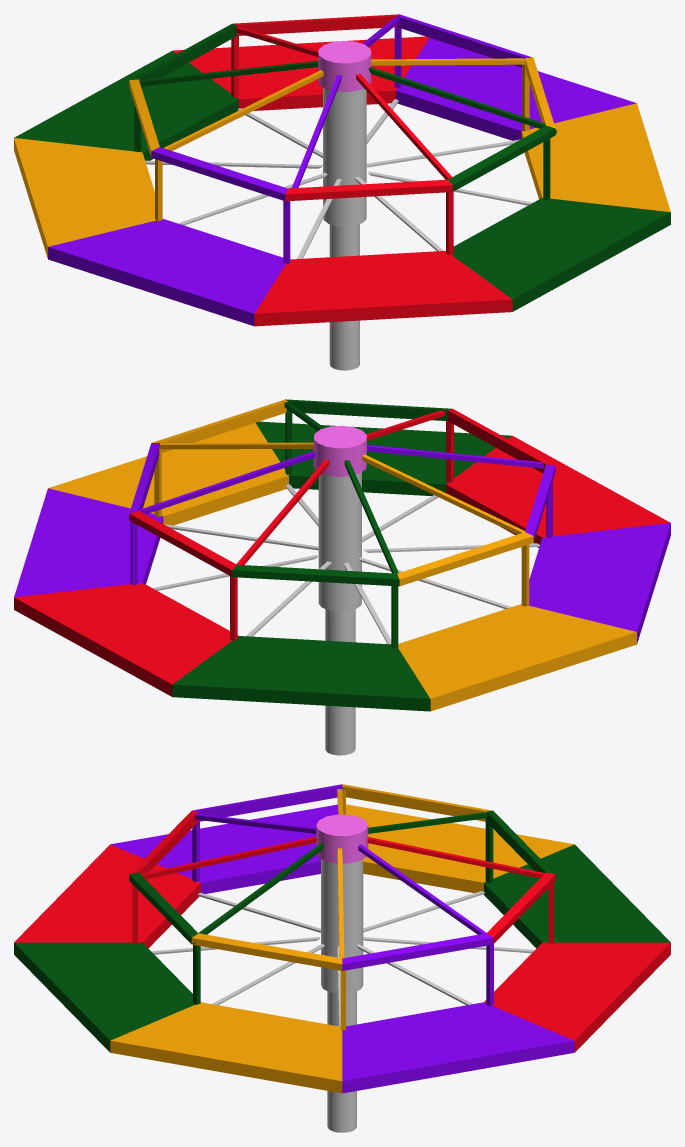
Rendered from GiraGiraLOD0.fbx.
The picture shows the model from 3 angles, top to bottom: view 1: azimuth 30°, elevation 25°; view 2: azimuth 150°, elevation 25°; view 3: azimuth 270°, elevation 25°; orthographic projection. The views are drawn at different scales.
Parts seen in each view (by area): view 1: BrinquedoGiraGiraLOD0; view 2: BrinquedoGiraGiraLOD0; view 3: BrinquedoGiraGiraLOD0.
Boxes of the visible parts, x1=… form: BrinquedoGiraGiraLOD0: x1=14, y1=14, x2=670, y2=370; BrinquedoGiraGiraLOD0: x1=14, y1=399, x2=670, y2=755; BrinquedoGiraGiraLOD0: x1=14, y1=784, x2=670, y2=1132.
Bounding box in the file's own units: 226 × 114 × 226.
